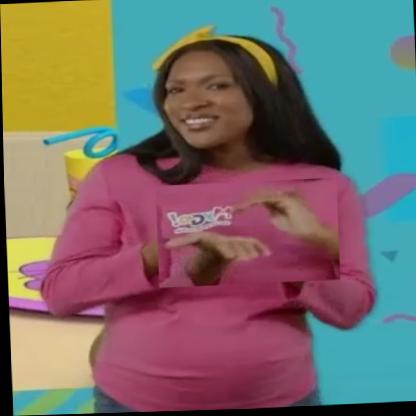ExcuseMe: (154, 179, 338, 288)
